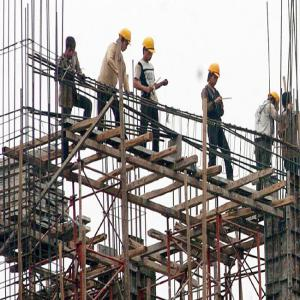none: (65, 37, 77, 59), (282, 92, 294, 111)
yellow: (118, 28, 133, 53), (207, 64, 221, 87), (143, 37, 156, 61), (267, 93, 281, 113)
